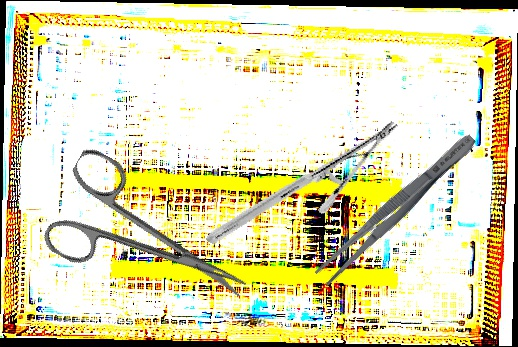Dressing Forceps: (311, 127, 483, 290)
Iris Scissors: (33, 144, 268, 342)
Needle Holder: (205, 70, 399, 295)
